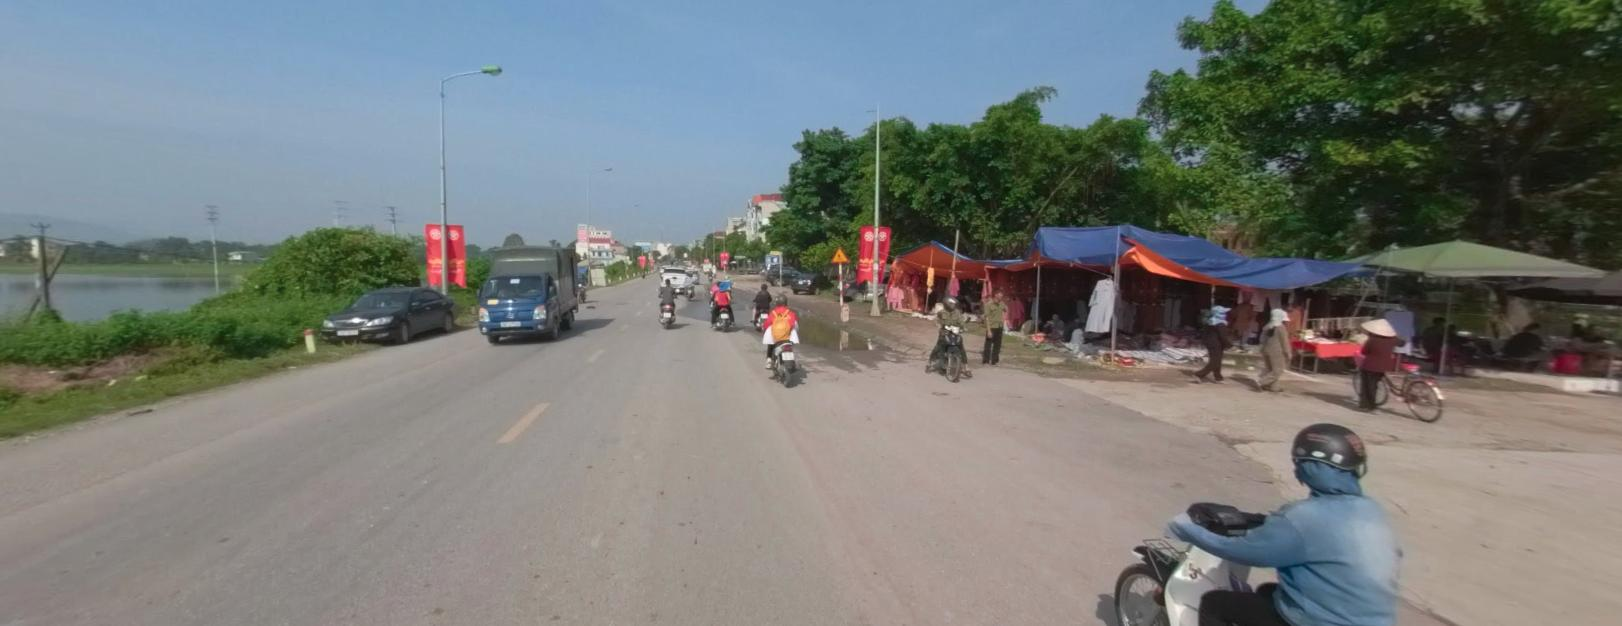Nguy hiem: (830, 245, 848, 261)
